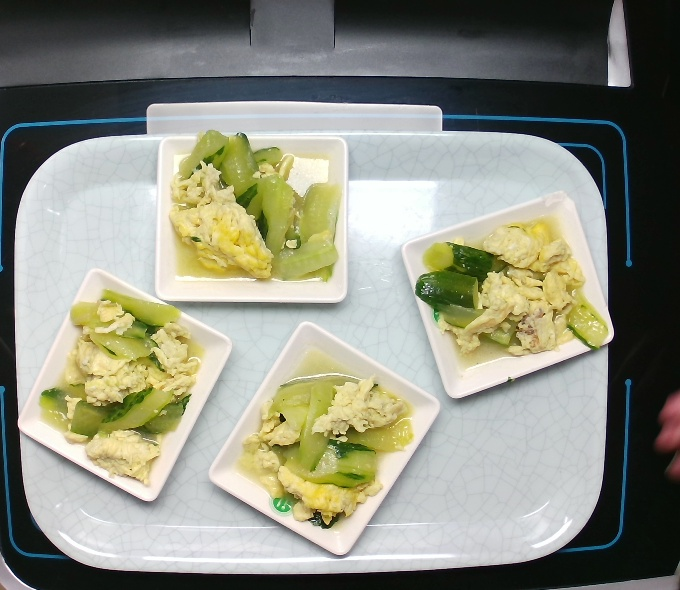wcq-DanHuangHuangGua: (33, 296, 204, 484), (245, 362, 421, 534), (407, 217, 600, 356), (169, 140, 334, 284)
